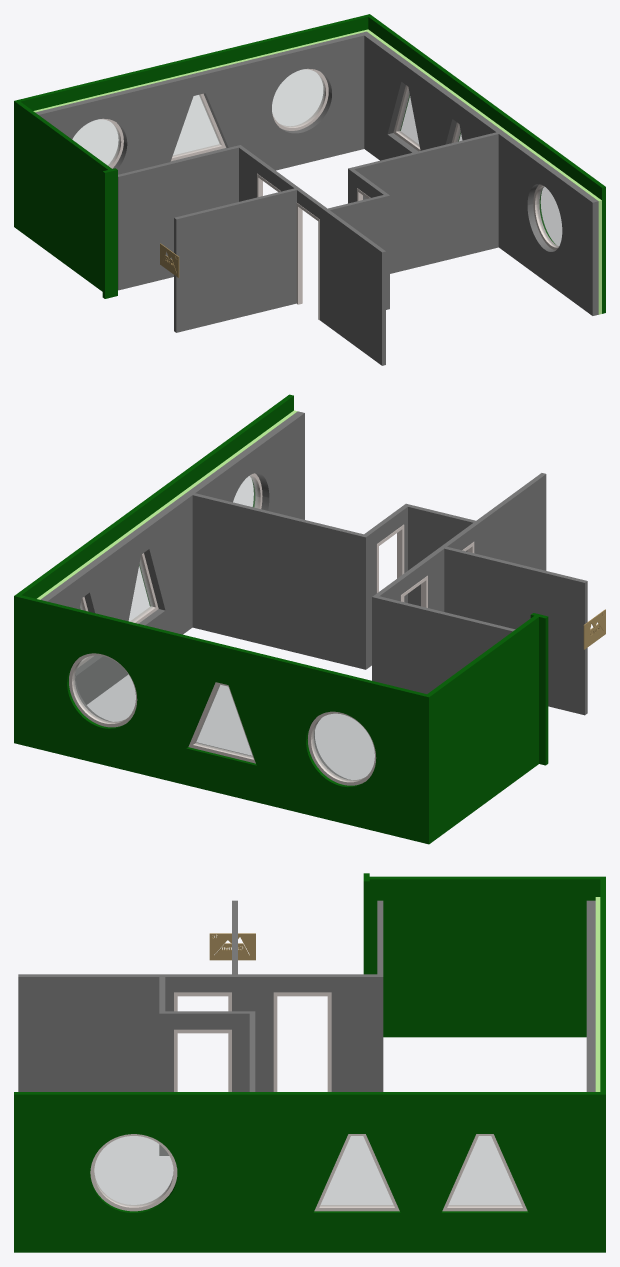
3 renders of one model, top to bottom at view 1: azimuth 30°, elevation 25°; view 2: azimuth 150°, elevation 25°; view 3: azimuth 270°, elevation 25°, orthographic. The views are drawn at different scales.
Parts seen in each view (by area): view 1: Walls, System Panel, Rectangular Mullion; view 2: Walls, System Panel, Rectangular Mullion; view 3: Walls, System Panel, Rectangular Mullion, Walls.001.
Boxes of the visible parts, left/top/right/bottom form: Walls: left=14, top=14, right=605, bottom=365; System Panel: left=72, top=69, right=561, bottom=246; Rectangular Mullion: left=99, top=68, right=558, bottom=320; Walls: left=14, top=394, right=587, bottom=844; System Panel: left=73, top=475, right=374, bottom=781; Rectangular Mullion: left=69, top=473, right=474, bottom=785; Walls: left=14, top=873, right=605, bottom=1252; System Panel: left=94, top=1136, right=521, bottom=1206; Rectangular Mullion: left=90, top=992, right=527, bottom=1211; Walls.001: left=209, top=933, right=255, bottom=960.
Bounding box in the file's own units: 9 × 3 × 10.18.
